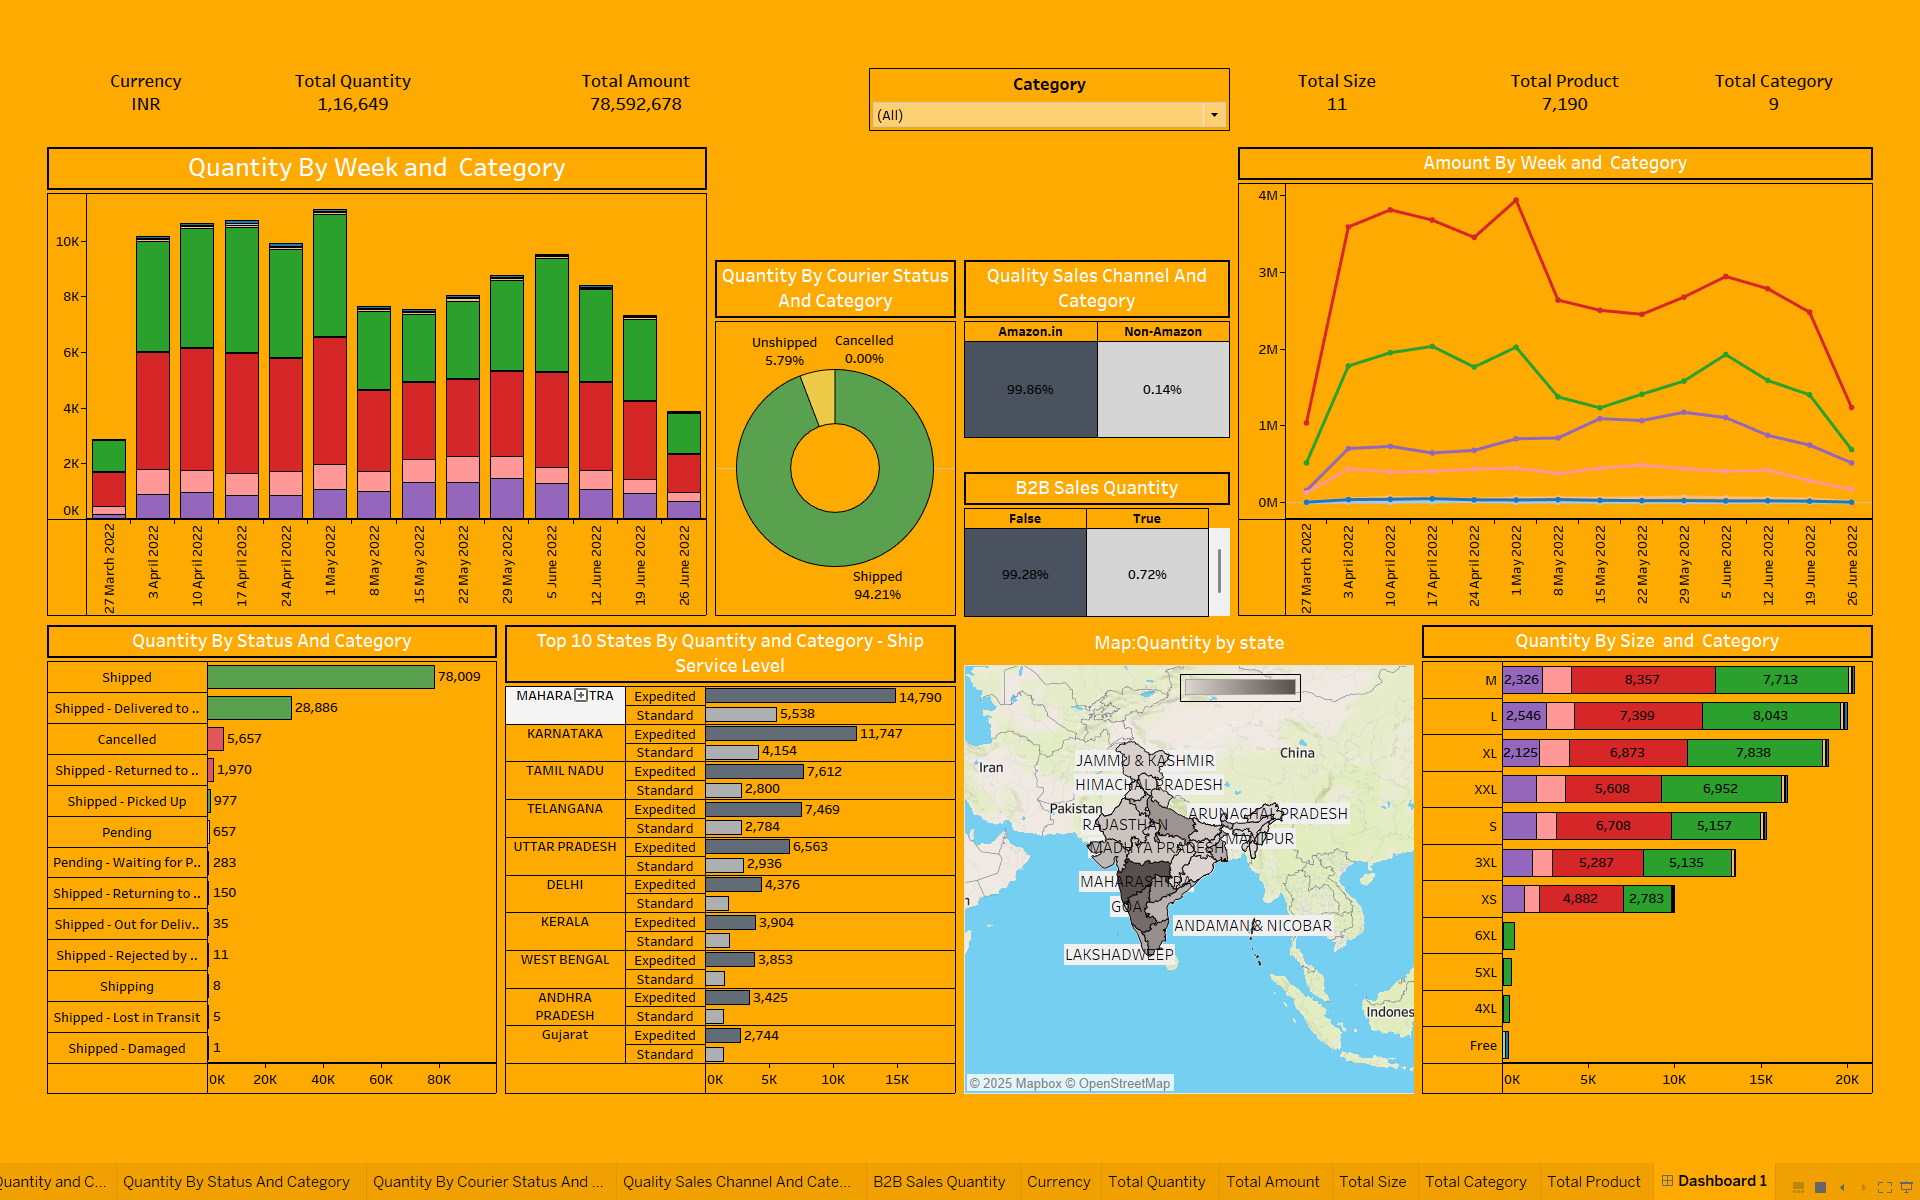

This screenshot's page, from the dashboard's own definition file:
{"tool":"tableau","page":{"name":"Dashboard 1","canvas":[1850,1050],"ordinal":0},"visuals":[{"type":"worksheet","title":"Currency","mark":"Automatic","box":[8,8,207,79]},{"type":"worksheet","title":"Total Quantity","mark":"Automatic","box":[215,8,283,79]},{"type":"worksheet","title":"Total Amount","mark":"Automatic","box":[498,8,332,79]},{"type":"filter","title":"Map: quantity by state","param":"[federated.01wk2em1pxafag15tfrec06tc7f2].[none:Category:nk]","box":[830,8,369,71]},{"type":"worksheet","title":"Total Size","mark":"Automatic","box":[1199,8,228,79]},{"type":"worksheet","title":"Total Product","mark":"Automatic","box":[1427,8,209,79]},{"type":"worksheet","title":"Total Category","mark":"Automatic","box":[1636,8,206,79]},{"type":"worksheet","title":"Quantity By week and Category","mark":"Bar","rows":["Qty"],"cols":["Date"],"box":[8,87,668,477.5]},{"type":"image","param":"D:/th (1).jpg","box":[676,87,523,113]},{"type":"worksheet","title":"Amount By week and Category ","mark":"Line","rows":["Amount"],"cols":["Date"],"box":[1199,87,643,477.5]},{"type":"worksheet","title":"Quantity By Courier Status And Category","mark":"Pie","rows":["Calculation_1007117489731284993","Calculation_1007117489731284993"],"box":[676,200,249,364.5]},{"type":"worksheet","title":"Quality Sales Channel And Category","mark":"Square","cols":["Sales Channel "],"box":[925,200,274,212]},{"type":"worksheet","title":"B2B Sales Quantity","mark":"Square","cols":["B2B"],"box":[925,412,274,152.5]},{"type":"worksheet","title":"Quantity By Status And Category","mark":"Bar","rows":["Status"],"cols":["Qty"],"box":[8,564.5,458.5,477.5]},{"type":"worksheet","title":"Top 10 States By Quantity and Category - Ship Service Level","mark":"Bar","rows":["ship-state","ship-service-level"],"cols":["Qty"],"box":[466.5,564.5,458.5,477.5]},{"type":"worksheet","title":"Map: quantity by state","mark":"Automatic","box":[925,564.5,458.5,477.5]},{"type":"worksheet","title":"Quantity By Size and Category","mark":"Bar","rows":["Size"],"cols":["Qty"],"box":[1383.5,564.5,458.5,477.5]},{"type":"legend","title":"Map: quantity by state","param":"[federated.01wk2em1pxafag15tfrec06tc7f2].[sum:Qty:qk]","box":[1145,618,121,28]}]}

Visuals, with their boxes in screenshot pixels (x1, y1, x2, y2):
"Currency" worksheet: [left=48, top=68, right=252, bottom=146]
"Total Quantity" worksheet: [left=252, top=68, right=532, bottom=146]
"Total Amount" worksheet: [left=532, top=68, right=859, bottom=146]
"Map: quantity by state" filter: [left=859, top=68, right=1224, bottom=138]
"Total Size" worksheet: [left=1224, top=68, right=1449, bottom=146]
"Total Product" worksheet: [left=1449, top=68, right=1655, bottom=146]
"Total Category" worksheet: [left=1655, top=68, right=1858, bottom=146]
"Quantity By week and Category" worksheet (Bar marks): [left=48, top=146, right=707, bottom=617]
image: [left=707, top=146, right=1224, bottom=257]
"Amount By week and Category " worksheet (Line marks): [left=1224, top=146, right=1858, bottom=617]
"Quantity By Courier Status And Category" worksheet (Pie marks): [left=707, top=257, right=953, bottom=617]
"Quality Sales Channel And Category" worksheet (Square marks): [left=953, top=257, right=1224, bottom=467]
"B2B Sales Quantity" worksheet (Square marks): [left=953, top=467, right=1224, bottom=617]
"Quantity By Status And Category" worksheet (Bar marks): [left=48, top=617, right=501, bottom=1089]
"Top 10 States By Quantity and Category - Ship Service Level" worksheet (Bar marks): [left=501, top=617, right=953, bottom=1089]
"Map: quantity by state" worksheet: [left=953, top=617, right=1406, bottom=1089]
"Quantity By Size and Category" worksheet (Bar marks): [left=1406, top=617, right=1858, bottom=1089]
"Map: quantity by state" legend: [left=1170, top=670, right=1290, bottom=698]
